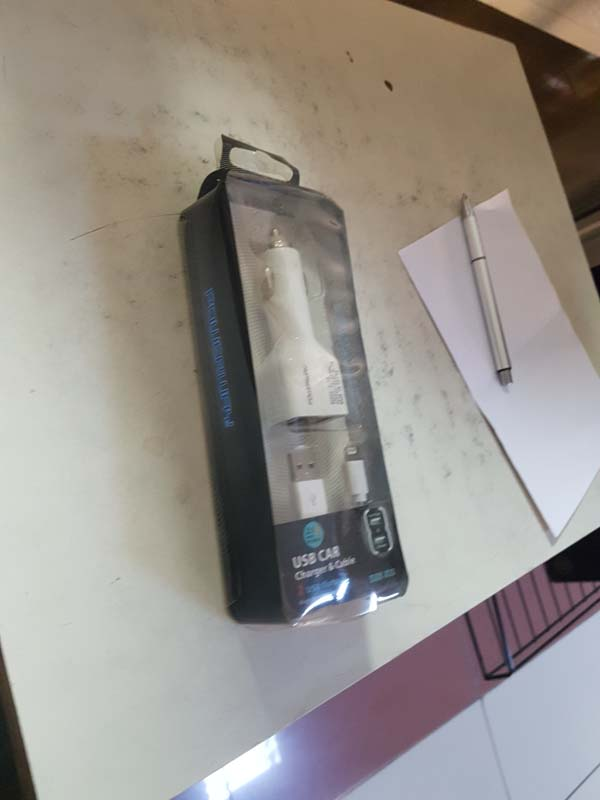usbcarcharger: (174, 128, 414, 635)
